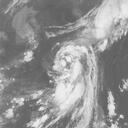cyclone: (47, 43, 97, 111)
